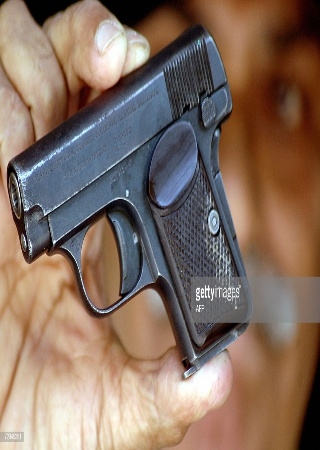handgun: (7, 25, 255, 375)
